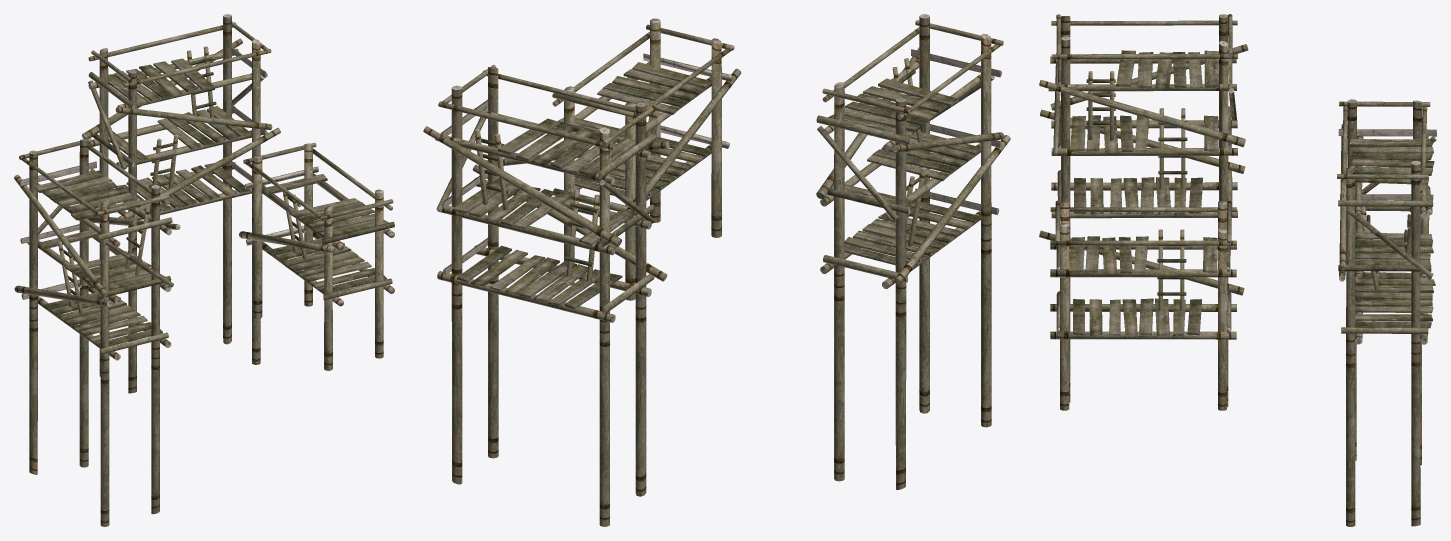
Rendered from scaffold_up_5x5_1.glb.
3 views of the same model, side by side, from view 1: azimuth 30°, elevation 25°; view 2: azimuth 150°, elevation 25°; view 3: azimuth 270°, elevation 25° (orthographic). The views are drawn at different scales.
Parts seen in each view (by area): view 1: scaffold_up_5x5_1_part0; view 2: scaffold_up_5x5_1_part0; view 3: scaffold_up_5x5_1_part0.
Boxes of the visible parts, x1,y1,x2,y2 form: scaffold_up_5x5_1_part0: [14, 14, 394, 526]; scaffold_up_5x5_1_part0: [423, 14, 1010, 526]; scaffold_up_5x5_1_part0: [1039, 14, 1436, 526].
Bounding box in the file's own units: 4.24 × 4.29 × 4.21.
Materials: 1 (1 with a texture image).
